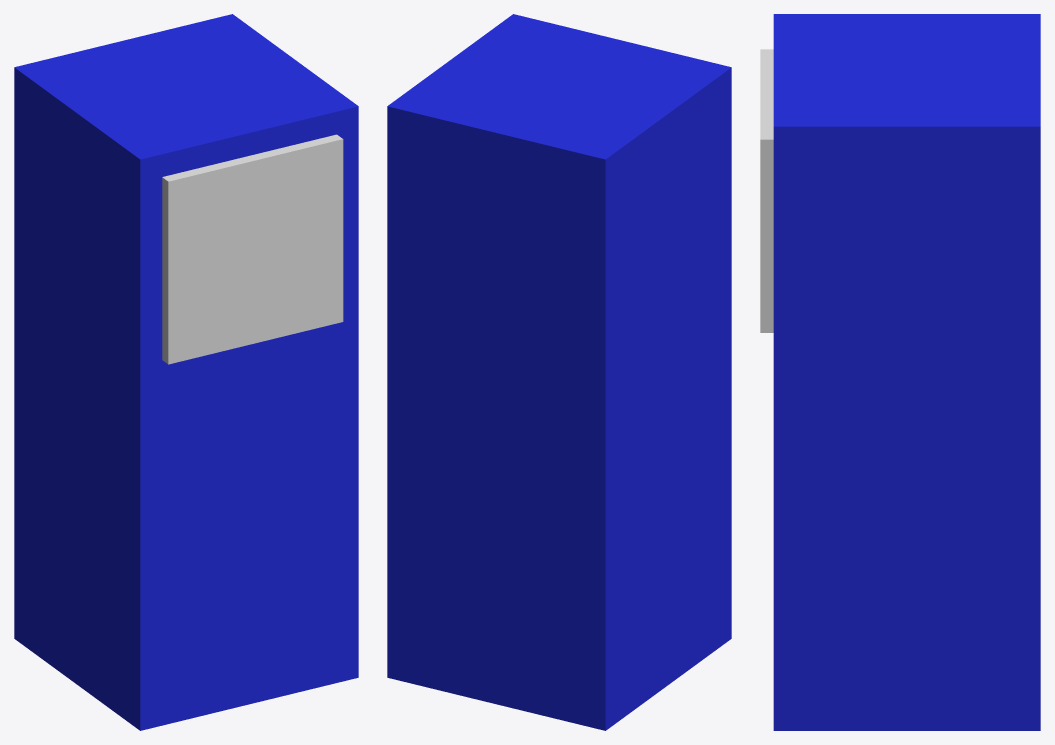
Rendered from guard.fbx.
3 views of the same model, side by side, from view 1: azimuth 30°, elevation 25°; view 2: azimuth 150°, elevation 25°; view 3: azimuth 270°, elevation 25° (orthographic). The views are drawn at different scales.
Visible parts, largest first — view 1: Guard; view 2: Guard; view 3: Guard.
Part boxes in pixels (<box>): Guard: <box>14,14,358,730</box>; Guard: <box>387,14,731,730</box>; Guard: <box>760,14,1040,730</box>.
Size of the model in its own units: 100 by 250 by 105.
